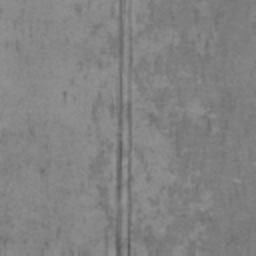Scratches: (114, 0, 134, 256)
